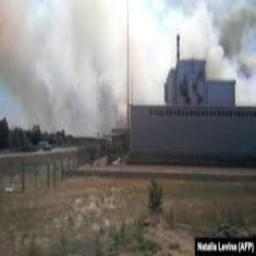Low smoke: (1, 0, 256, 143)
